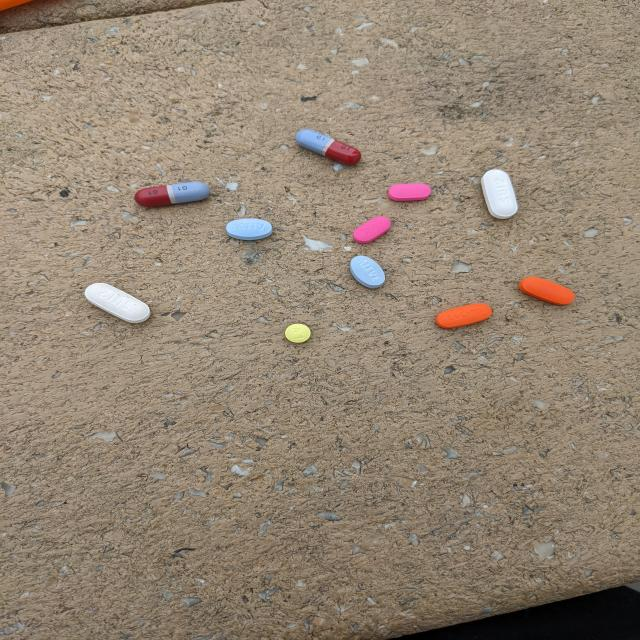non-organic waste: (84, 282, 152, 324), (294, 129, 363, 167), (134, 181, 212, 208), (480, 169, 519, 220), (518, 276, 578, 306), (435, 302, 493, 329), (348, 255, 386, 290), (225, 217, 274, 241), (352, 215, 392, 244), (386, 182, 432, 202), (284, 322, 312, 343)
